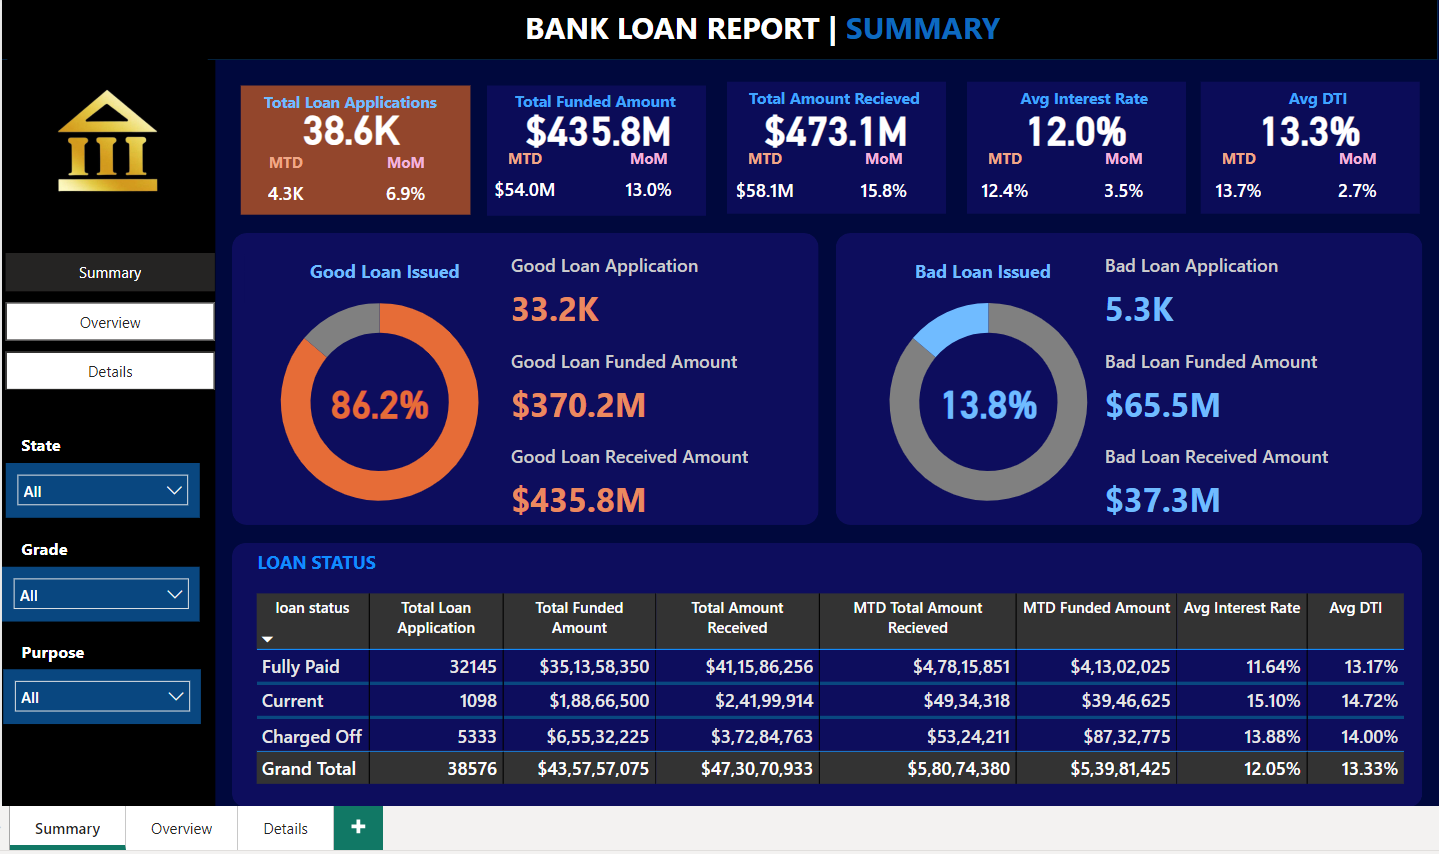

The page's visual inventory and layout, read from the dashboard file:
{"tool":"powerbi","page":{"name":"Summary","canvas":[1280,720],"ordinal":0},"visuals":[{"type":"shape","box":[0,0,190,720],"z":0},{"type":"shape","box":[0,0,1278.6,55],"z":1000},{"type":"textbox","box":[461.2,3.8,477.5,47.5],"z":2000},{"type":"group","id":"g1","title":"Group 1","box":[190,55,241.2,143.8],"z":3000},{"type":"shape","box":[645,75,195,117.5],"z":3000,"group":"g3"},{"type":"shape","box":[858.7,75,195,117.5],"z":3000,"group":"g4"},{"type":"shape","box":[1067.5,75,195,117.5],"z":3000,"group":"g5"},{"type":"shape","box":[431.5,78.7,195,116.3],"z":3000,"group":"g2"},{"type":"shape","box":[212.3,78.9,204.5,115.1],"z":3000,"group":"g1"},{"type":"card","fields":{"Values":["financial_loan.Total Loan Application"]},"box":[190,55,241.3,120],"z":4000,"group":"g1"},{"type":"group","id":"g2","title":"Group 1","box":[416.2,75,230,120],"z":4000},{"type":"card","fields":{"Values":["financial_loan.Total Funded Amount"]},"box":[416.2,75,230,81.6],"z":4000,"group":"g2"},{"type":"card","fields":{"Values":["financial_loan.Total Amount Received"]},"box":[627.5,75,230,82.5],"z":4000,"group":"g3"},{"type":"card","fields":{"Values":["financial_loan.Avg Interest Rate"]},"box":[841.2,75,230,82.5],"z":4000,"group":"g4"},{"type":"card","fields":{"Values":["financial_loan.Avg DTI"]},"box":[1050,75,230,82.5],"z":4000,"group":"g5"},{"type":"textbox","box":[660,75,180,35],"z":5000,"group":"g3"},{"type":"textbox","box":[873.7,75,180,35],"z":5000,"group":"g4"},{"type":"textbox","box":[1082.5,75,180,35],"z":5000,"group":"g5"},{"type":"textbox","box":[451.4,77.5,180,34.6],"z":5000,"group":"g2"},{"type":"textbox","box":[228,78.9,188.8,34.3],"z":5000,"group":"g1"},{"type":"card","fields":{"Values":["financial_loan.Avg Interest Rate"]},"box":[505,208.8,230,82.5],"z":5000},{"type":"card","title":"MTD ","fields":{"Values":["financial_loan.MTD Total Amount Recieved"]},"box":[644.6,133.9,70,61.4],"z":6000,"group":"g3"},{"type":"card","title":"MTD ","fields":{"Values":["financial_loan.MTD Avg Int Rate"]},"box":[858.3,133.9,70,61.4],"z":6000,"group":"g4"},{"type":"card","title":"MTD ","fields":{"Values":["financial_loan.MTD Avg DTI"]},"box":[1067.1,133.9,70,61.4],"z":6000,"group":"g5"},{"type":"card","title":"MTD ","fields":{"Values":["financial_loan.MTD Total Funded Amount"]},"box":[431.2,134.4,70,60.6],"z":6000,"group":"g2"},{"type":"card","title":"MTD ","fields":{"Values":["financial_loan.MTD Loan Applications"]},"box":[215.7,137.9,73.6,60.4],"z":6000,"group":"g1"},{"type":"shape","box":[205,208.8,522.5,260],"z":6000},{"type":"card","title":"MoM","fields":{"Values":["financial_loan.MoM Funded Amount"]},"box":[541.2,134.4,70,60.6],"z":7000,"group":"g2"},{"type":"card","title":"MoM","fields":{"Values":["financial_loan.MoM Total Amount Recieved"]},"box":[750.3,134.4,70.2,61.7],"z":7000,"group":"g3"},{"type":"card","title":"MoM","fields":{"Values":["financial_loan.MoM Avg Int Rate"]},"box":[964,134.4,70.2,61.7],"z":7000,"group":"g4"},{"type":"card","title":"MoM","fields":{"Values":["financial_loan.MoM Avg DTI"]},"box":[1172.8,134.4,70.2,61.7],"z":7000,"group":"g5"},{"type":"card","title":"MoM","fields":{"Values":["financial_loan.MoM Loan Application"]},"box":[322.7,137.1,73.6,60.4],"z":7000,"group":"g1"},{"type":"card","fields":{"Values":["financial_loan.Good Loan %"]},"box":[221.2,318.8,230,82.5],"z":7000},{"type":"group","id":"g3","title":"Group 1","box":[627.5,75,230,120],"z":8000},{"type":"group","id":"g4","title":"Group 1","box":[841.2,75,230,120],"z":9000},{"type":"group","id":"g5","title":"Group 1","box":[1050,75,230,120],"z":10000},{"type":"donutChart","fields":{"Category":["financial_loan.Good vs Bad Loan"],"Y":["financial_loan.Total Loan Application"]},"box":[211.2,245,250,230],"z":11000},{"type":"shape","box":[742.5,208.8,522.5,260],"z":12000},{"type":"textbox","box":[216.2,227.5,250,45],"z":13000},{"type":"cardVisual","fields":{"Data":["financial_loan.Good Loan Application","financial_loan.Good Loan Funded Amount","financial_loan.Good Loan Received Amount"]},"box":[436.2,208.8,282.5,258.8],"z":14000},{"type":"donutChart","fields":{"Category":["financial_loan.Good vs Bad Loan"],"Y":["financial_loan.Total Loan Application"]},"box":[753.8,245,250,230],"z":15000},{"type":"textbox","box":[770,227.5,206.2,36.2],"z":16000},{"type":"card","fields":{"Values":["financial_loan.Bad Loan %"]},"box":[763.8,318.8,230,82.5],"z":17000},{"type":"shape","box":[205,485,1060,235],"z":18000},{"type":"cardVisual","fields":{"Data":["financial_loan.Bad Loan Application","financial_loan.Bad Loan Funded Amount","financial_loan.Bad Loan Received Amount"]},"box":[965,208.8,282.5,258.8],"z":19000},{"type":"tableEx","fields":{"Values":["financial_loan.loan_status","financial_loan.Total Loan Application","financial_loan.Total Funded Amount","financial_loan.Total Amount Received","financial_loan.MTD Total Amount Recieved","financial_loan.MTD Total Funded Amount","financial_loan.Avg Interest Rate","financial_loan.Avg DTI"]},"box":[220,525,1043.8,195],"z":20000},{"type":"textbox","box":[222.5,486.2,138.8,38.8],"z":21000},{"type":"slicer","fields":{"Values":["financial_loan.address_state"]},"box":[3.8,413.8,172.5,48.8],"z":22000},{"type":"textbox","box":[12.5,382.5,131.2,36.2],"z":23000},{"type":"slicer","fields":{"Values":["financial_loan.grade"]},"box":[0,506.2,176.2,48.8],"z":24000},{"type":"slicer","fields":{"Values":["financial_loan.purpose"]},"box":[1.2,597.5,176.2,48.8],"z":25000},{"type":"textbox","box":[12.5,475,131.2,36.2],"z":26000},{"type":"textbox","box":[12.5,566.2,131.2,36.2],"z":27000},{"type":"pageNavigator","box":[3.8,227.5,186.2,123.8],"z":27001},{"type":"image","box":[0,27.1,188.6,200],"z":27002}]}

Visuals, with their boxes on the page's 1280x720 design canvas (x1, y1, x2, y2). These are canvas units, not pixel positions in the 1439x854 screenshot, which may show the page scaled, cropped or inside an application window:
shape: <bbox>0, 0, 190, 720</bbox>
shape: <bbox>0, 0, 1279, 55</bbox>
textbox: <bbox>461, 4, 939, 51</bbox>
"Group 1" group: <bbox>190, 55, 431, 199</bbox>
shape: <bbox>645, 75, 840, 192</bbox>
shape: <bbox>859, 75, 1054, 192</bbox>
shape: <bbox>1068, 75, 1262, 192</bbox>
shape: <bbox>432, 79, 626, 195</bbox>
shape: <bbox>212, 79, 417, 194</bbox>
card - financial_loan.Total Loan Application: <bbox>190, 55, 431, 175</bbox>
"Group 1" group: <bbox>416, 75, 646, 195</bbox>
card - financial_loan.Total Funded Amount: <bbox>416, 75, 646, 157</bbox>
card - financial_loan.Total Amount Received: <bbox>628, 75, 858, 158</bbox>
card - financial_loan.Avg Interest Rate: <bbox>841, 75, 1071, 158</bbox>
card - financial_loan.Avg DTI: <bbox>1050, 75, 1280, 158</bbox>
textbox: <bbox>660, 75, 840, 110</bbox>
textbox: <bbox>874, 75, 1054, 110</bbox>
textbox: <bbox>1082, 75, 1262, 110</bbox>
textbox: <bbox>451, 78, 631, 112</bbox>
textbox: <bbox>228, 79, 417, 113</bbox>
card - financial_loan.Avg Interest Rate: <bbox>505, 209, 735, 291</bbox>
"MTD " card: <bbox>645, 134, 715, 195</bbox>
"MTD " card: <bbox>858, 134, 928, 195</bbox>
"MTD " card: <bbox>1067, 134, 1137, 195</bbox>
"MTD " card: <bbox>431, 134, 501, 195</bbox>
"MTD " card: <bbox>216, 138, 289, 198</bbox>
shape: <bbox>205, 209, 728, 469</bbox>
"MoM" card: <bbox>541, 134, 611, 195</bbox>
"MoM" card: <bbox>750, 134, 820, 196</bbox>
"MoM" card: <bbox>964, 134, 1034, 196</bbox>
"MoM" card: <bbox>1173, 134, 1243, 196</bbox>
"MoM" card: <bbox>323, 137, 396, 198</bbox>
card - financial_loan.Good Loan %: <bbox>221, 319, 451, 401</bbox>
"Group 1" group: <bbox>628, 75, 858, 195</bbox>
"Group 1" group: <bbox>841, 75, 1071, 195</bbox>
"Group 1" group: <bbox>1050, 75, 1280, 195</bbox>
donutChart - financial_loan.Good vs Bad Loan x financial_loan.Total Loan Application: <bbox>211, 245, 461, 475</bbox>
shape: <bbox>742, 209, 1265, 469</bbox>
textbox: <bbox>216, 228, 466, 272</bbox>
cardVisual - financial_loan.Good Loan Application x financial_loan.Good Loan Funded Amount: <bbox>436, 209, 719, 468</bbox>
donutChart - financial_loan.Good vs Bad Loan x financial_loan.Total Loan Application: <bbox>754, 245, 1004, 475</bbox>
textbox: <bbox>770, 228, 976, 264</bbox>
card - financial_loan.Bad Loan %: <bbox>764, 319, 994, 401</bbox>
shape: <bbox>205, 485, 1265, 720</bbox>
cardVisual - financial_loan.Bad Loan Application x financial_loan.Bad Loan Funded Amount: <bbox>965, 209, 1248, 468</bbox>
tableEx - financial_loan.loan_status x financial_loan.Total Loan Application: <bbox>220, 525, 1264, 720</bbox>
textbox: <bbox>222, 486, 361, 525</bbox>
slicer - financial_loan.address_state: <bbox>4, 414, 176, 463</bbox>
textbox: <bbox>12, 382, 144, 419</bbox>
slicer - financial_loan.grade: <bbox>0, 506, 176, 555</bbox>
slicer - financial_loan.purpose: <bbox>1, 598, 177, 646</bbox>
textbox: <bbox>12, 475, 144, 511</bbox>
textbox: <bbox>12, 566, 144, 602</bbox>
pageNavigator: <bbox>4, 228, 190, 351</bbox>
image: <bbox>0, 27, 189, 227</bbox>
